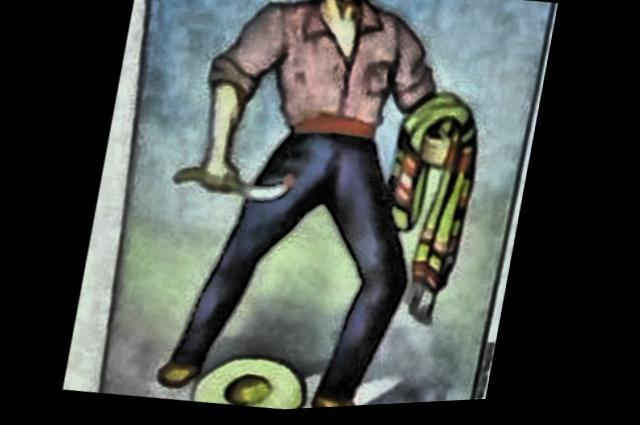El Valiente: (98, 0, 553, 413)
